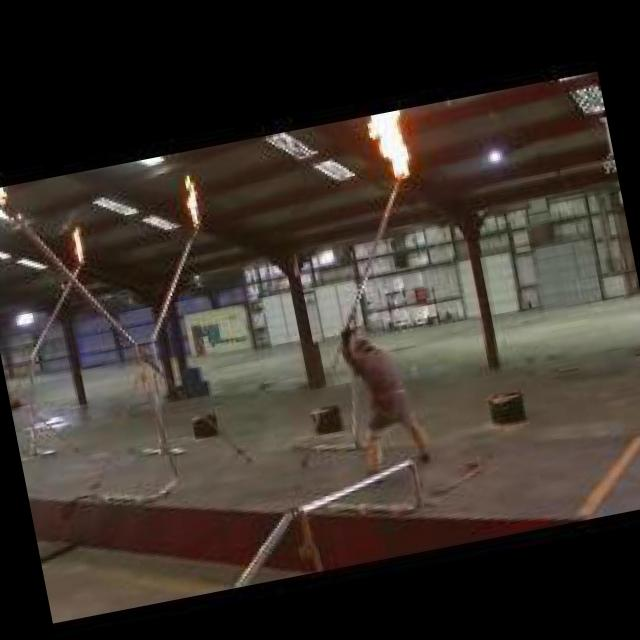fire: (359, 110, 424, 182), (168, 172, 215, 230), (61, 226, 104, 268)
